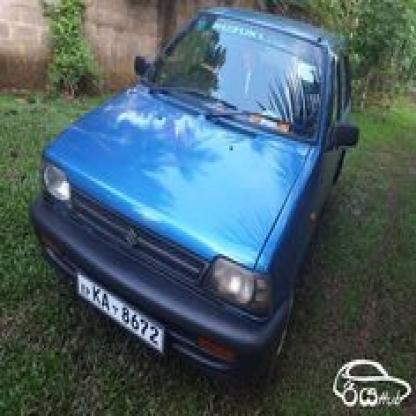car front: (27, 0, 359, 390)
number plate: (90, 283, 166, 349)
